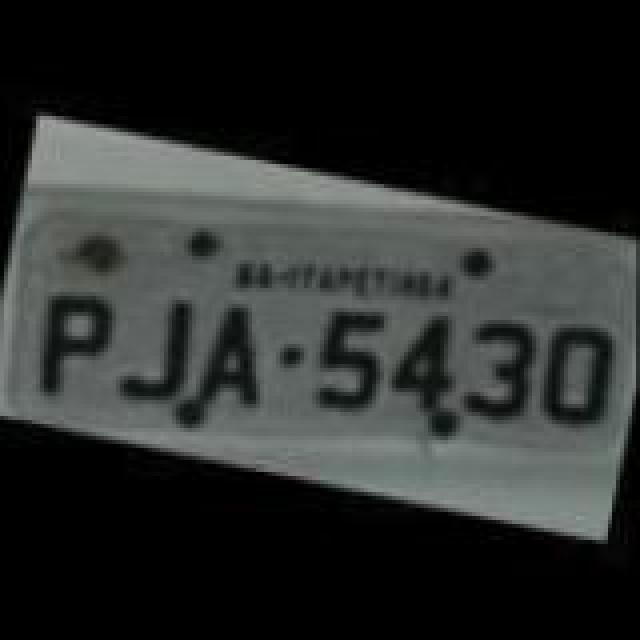3: (452, 304, 540, 424)
4: (376, 300, 464, 420)
5: (302, 298, 394, 418)
A: (188, 292, 276, 412)
J: (110, 286, 202, 410)
O: (528, 304, 624, 432)
P: (22, 278, 118, 410)
